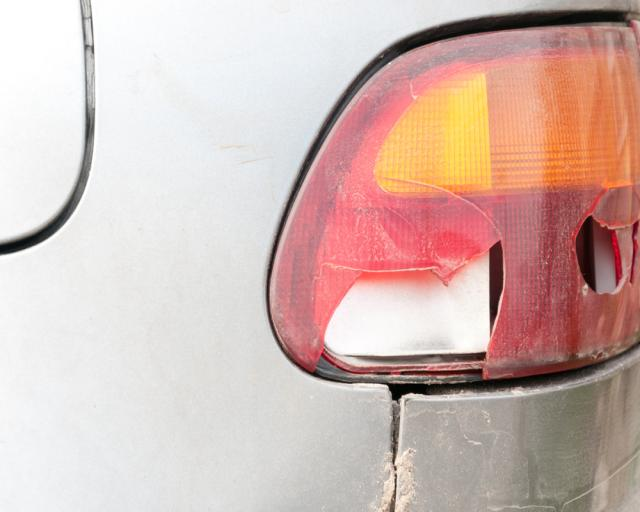lamp broken: (268, 18, 640, 386)
